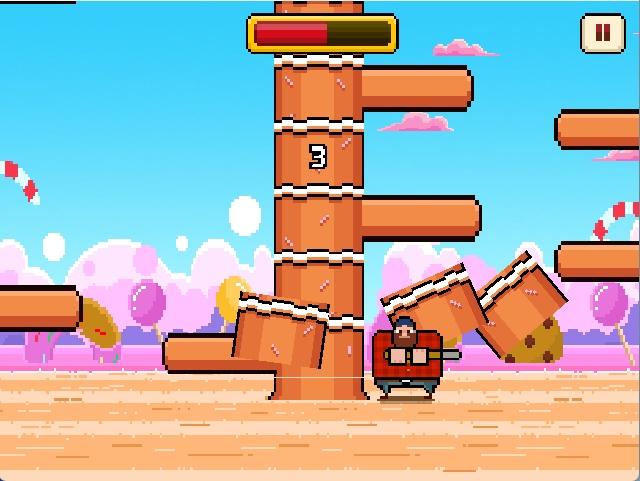right_obs: (357, 189, 485, 249), (357, 61, 477, 117)
timberman: (366, 311, 466, 408)
